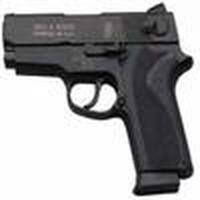gun: (4, 8, 200, 197)
